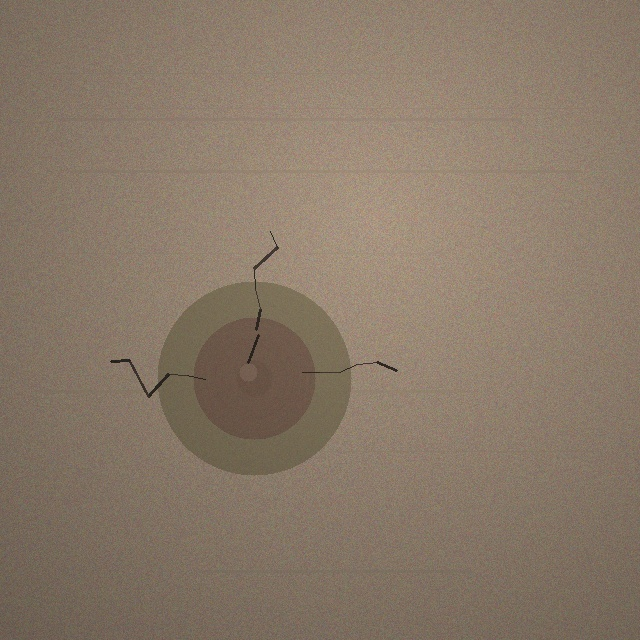crack: (157, 281, 351, 475)
